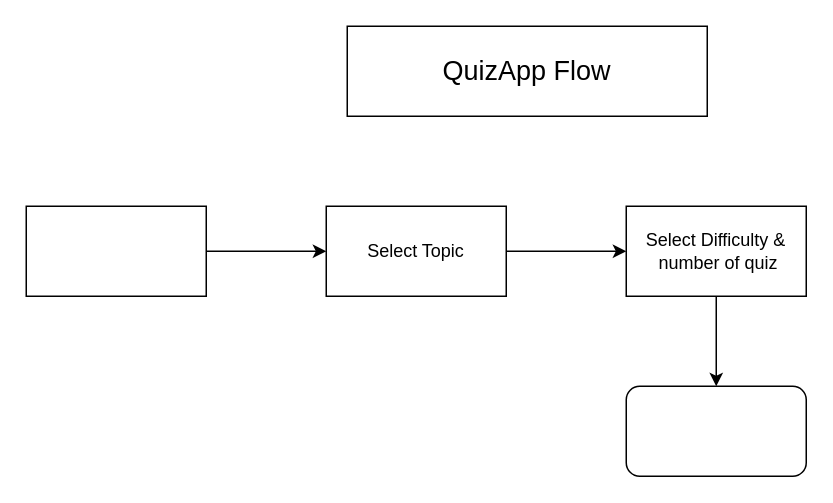
The diagram is 833 pixels wide and 503 high, and some of its shapes have lost their labels. Each missing label, with the centre of its shape:
"Game" belongs at (x=715, y=430).
"Main" belongs at (x=115, y=250).
